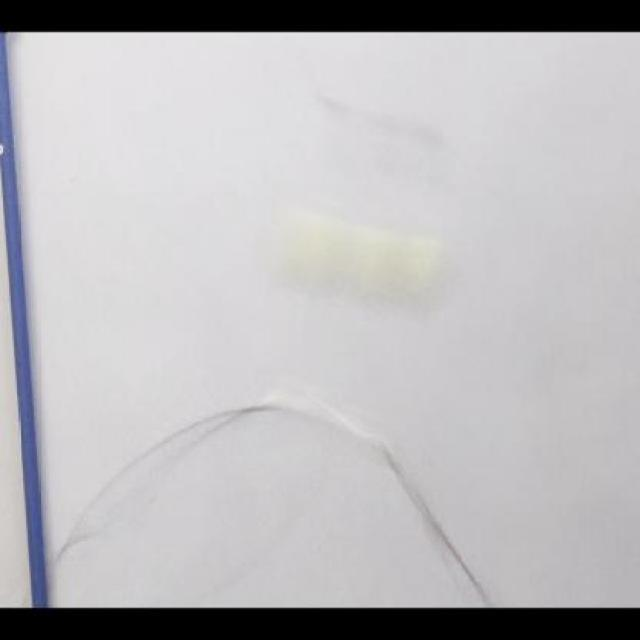baseball: (271, 208, 452, 320)
